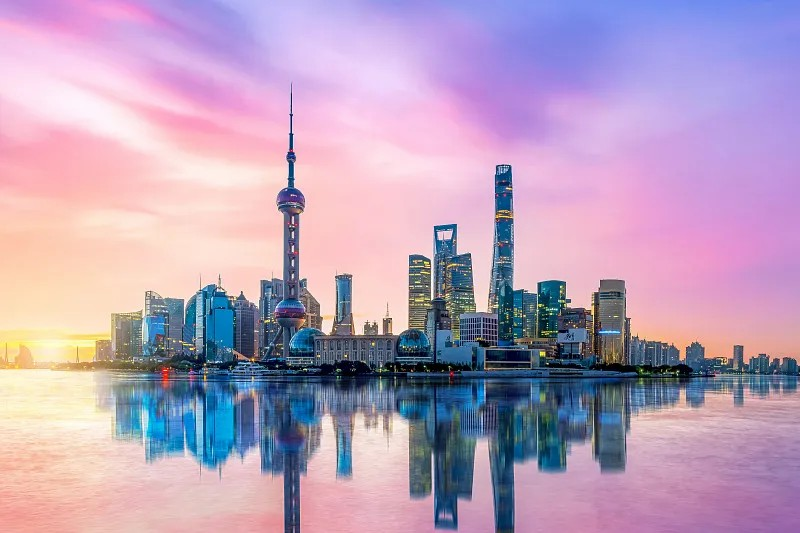Oriental: (262, 83, 307, 360)
